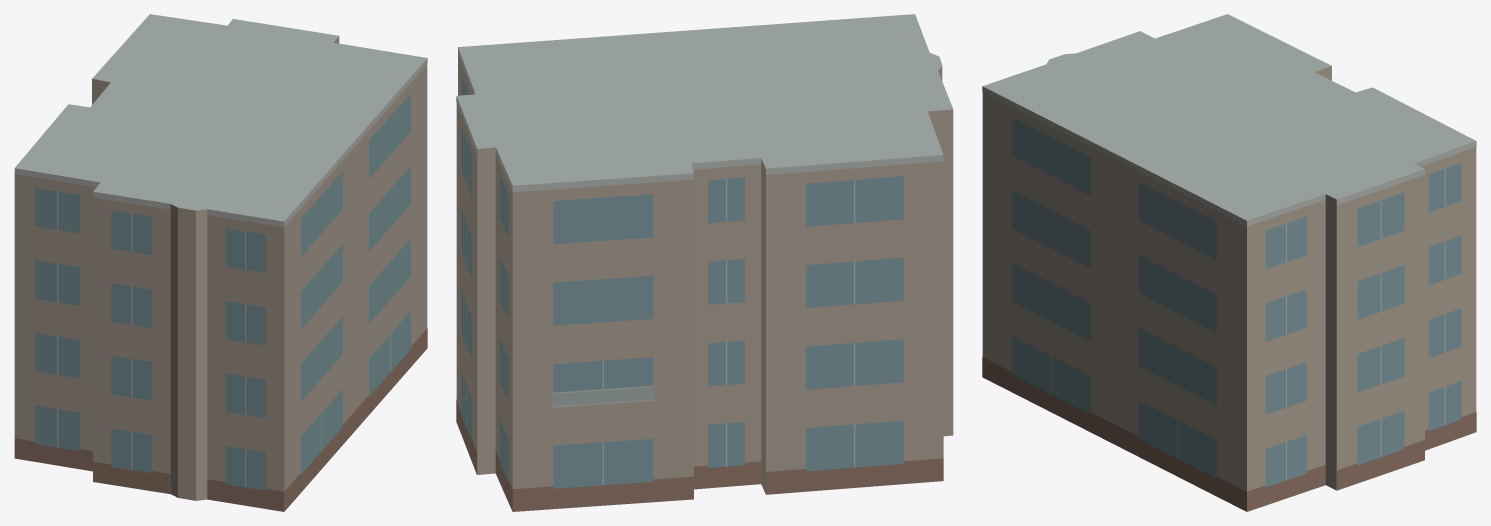
Rendered from survey-upis-33043396.glb.
3 views of the same model, side by side, from view 1: azimuth 30°, elevation 25°; view 2: azimuth 150°, elevation 25°; view 3: azimuth 270°, elevation 25° (orthographic). The views are drawn at different scales.
Parts seen in each view (by area): view 1: survey-upis-33043396.tmp; view 2: survey-upis-33043396.tmp; view 3: survey-upis-33043396.tmp.
Boxes of the visible parts, bbox=[...] form: survey-upis-33043396.tmp: bbox=[14, 14, 427, 511]; survey-upis-33043396.tmp: bbox=[456, 14, 953, 511]; survey-upis-33043396.tmp: bbox=[982, 14, 1476, 511].
Size of the model in its own units: 18.82 by 12.35 by 19.
